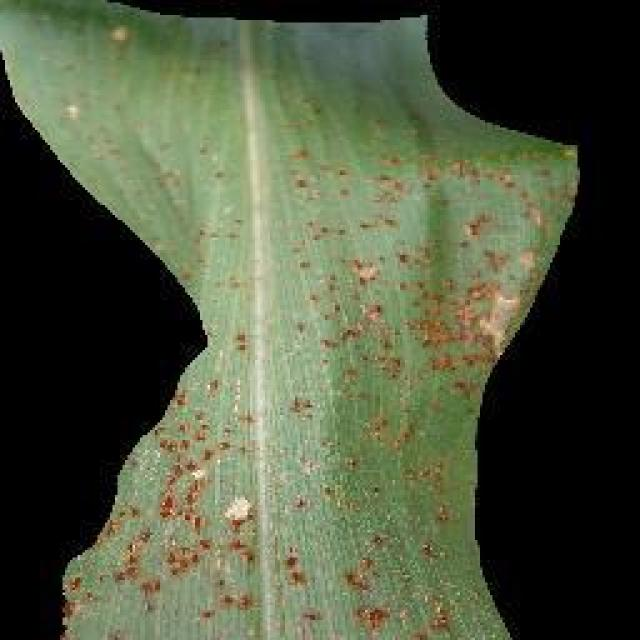Corn Common Rust: (124, 150, 528, 640)
